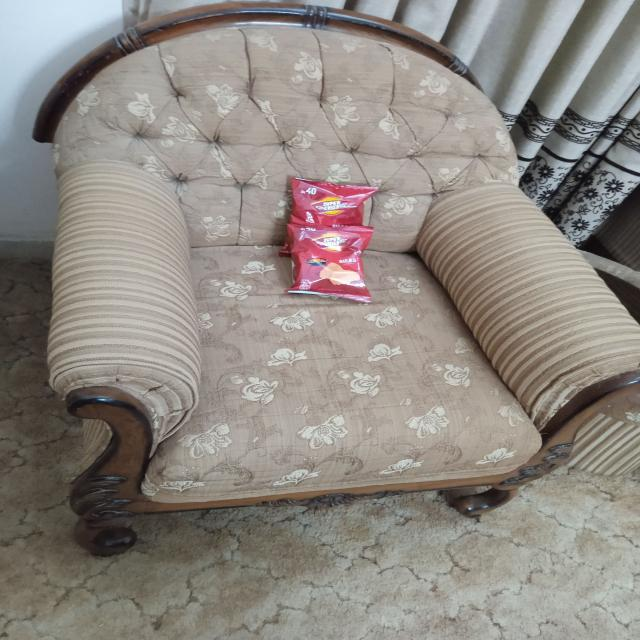Plastic: (292, 220, 369, 296), (291, 178, 382, 220)
